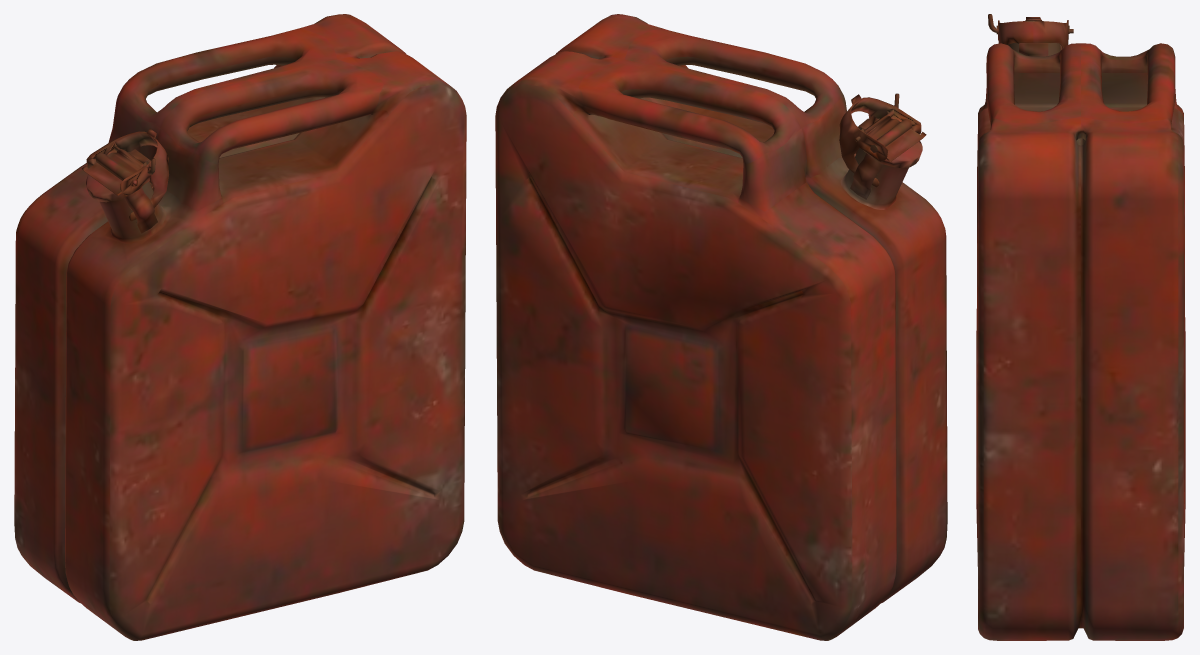
Rendered from jerry.glb.
3 renders of one model, left to right at view 1: azimuth 30°, elevation 25°; view 2: azimuth 150°, elevation 25°; view 3: azimuth 270°, elevation 25°, orthographic. The views are drawn at different scales.
Visible parts, largest first — view 1: metal_jerrycan; view 2: metal_jerrycan; view 3: metal_jerrycan.
Part boxes in pixels (x1,y1,x2,y2): metal_jerrycan: (14, 14, 466, 640); metal_jerrycan: (495, 14, 947, 640); metal_jerrycan: (976, 14, 1185, 640).
Bounding box in the file's own units: 0.35 × 0.4548 × 0.1717.
Materials: 1 (1 with a texture image).
